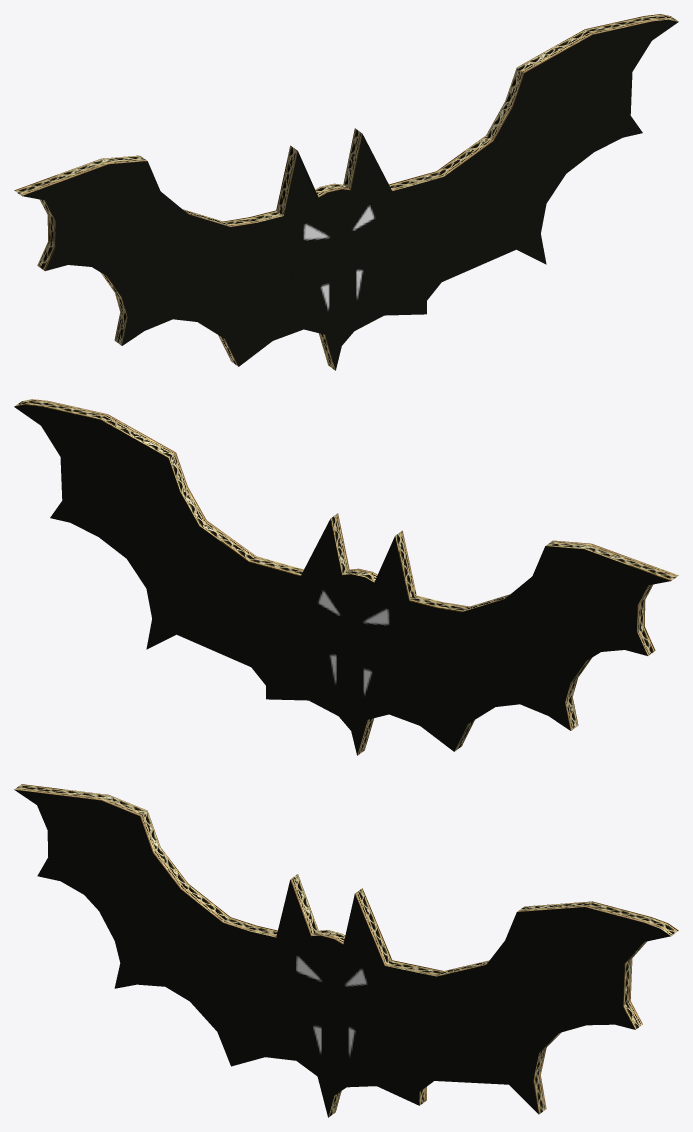
Rendered from cardboard_bat_2.fbx.
3 renders of one model, top to bottom at view 1: azimuth 30°, elevation 25°; view 2: azimuth 150°, elevation 25°; view 3: azimuth 330°, elevation 25°, orthographic.
Visible parts, largest first — view 1: cardboard_bat_2; view 2: cardboard_bat_2; view 3: cardboard_bat_2.
Part boxes in pixels (box(x1,y1,x2,y2)): cardboard_bat_2: box(14, 14, 678, 370); cardboard_bat_2: box(14, 399, 678, 755); cardboard_bat_2: box(14, 784, 678, 1117).
Size of the model in its own units: 2.28 by 0.9074 by 0.046.
